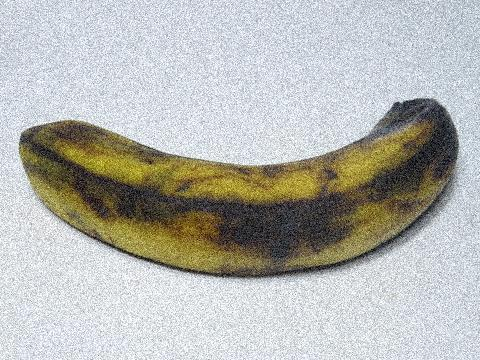overripe: (3, 68, 471, 295)
